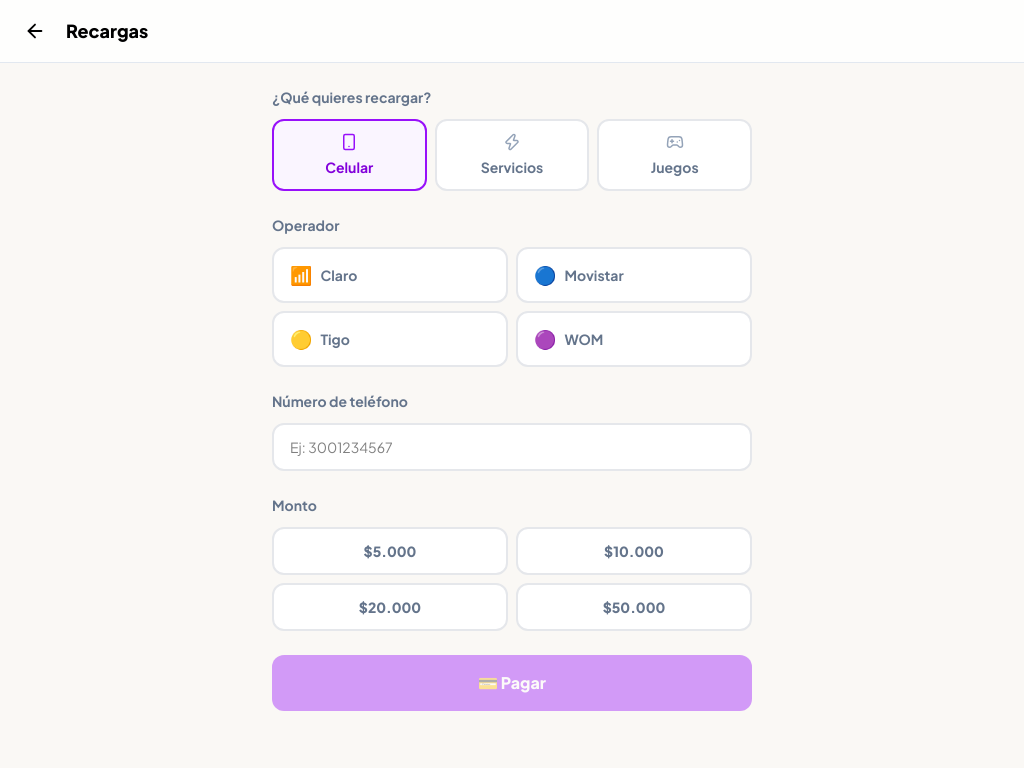
RechargePage — Operator selector › switches operators when category changes to Servicios
Click the button "Servicios".
click(512, 155)  # box [435, 119, 589, 191]
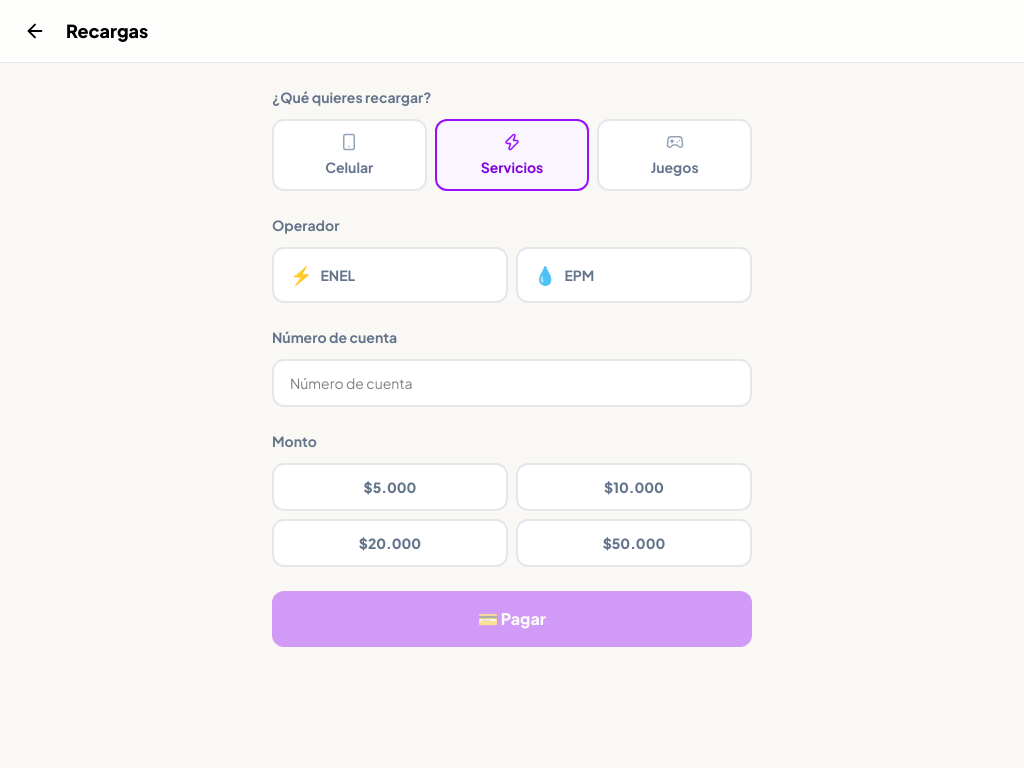
Result: the button "⚡ ENEL" is shown at [272, 247, 508, 303]
Result: the button "💧 EPM" is shown at [516, 247, 752, 303]
Result: the button "Claro" is gone
